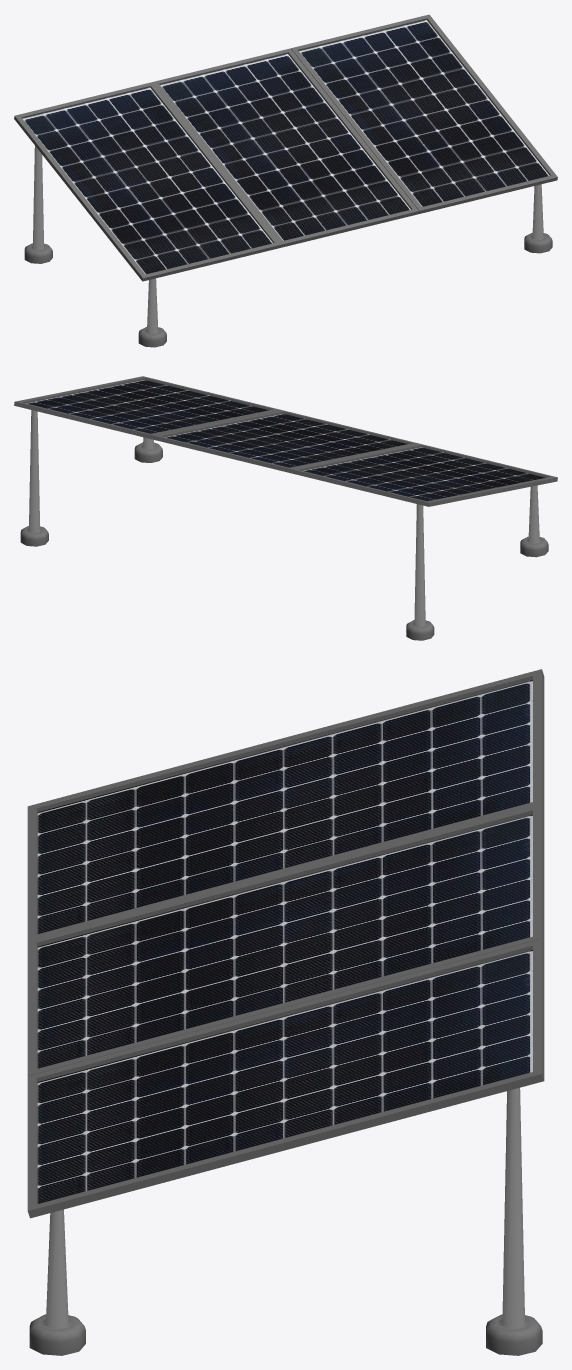
The model's file is Solar_Panel.fbx.
3 renders of one model, top to bottom at view 1: azimuth 30°, elevation 25°; view 2: azimuth 150°, elevation 25°; view 3: azimuth 270°, elevation 25°, orthographic. The views are drawn at different scales.
Parts seen in each view (by area): view 1: Solar_Panel, Solar_Panel.002, Solar_Panel.001, Circle.001, Circle, Circle.002; view 2: Solar_Panel, Solar_Panel.002, Solar_Panel.001, Circle.001, Circle.003, Circle, Circle.002; view 3: Solar_Panel.002, Solar_Panel.001, Solar_Panel, Circle.003, Circle.002.
Boxes of the visible parts, <box> form: Solar_Panel: <box>14,82,281,281</box>; Solar_Panel.002: <box>291,14,557,213</box>; Solar_Panel.001: <box>153,48,419,247</box>; Circle.001: <box>24,146,52,263</box>; Circle: <box>138,278,166,347</box>; Circle.002: <box>524,184,552,253</box>; Solar_Panel: <box>290,444,557,506</box>; Solar_Panel.002: <box>14,376,280,439</box>; Solar_Panel.001: <box>152,410,419,473</box>; Circle.001: <box>406,504,434,640</box>; Circle.003: <box>20,410,48,546</box>; Circle: <box>520,485,548,557</box>; Circle.002: <box>134,437,162,462</box>; Solar_Panel.002: <box>27,939,544,1218</box>; Solar_Panel.001: <box>27,803,544,1075</box>; Solar_Panel: <box>27,669,544,940</box>; Circle.003: <box>486,1088,542,1355</box>; Circle.002: <box>29,1209,85,1355</box>.
Size of the model in its own units: 5.08 by 1.65 by 2.74.
Materials: 2 (1 with a texture image).
